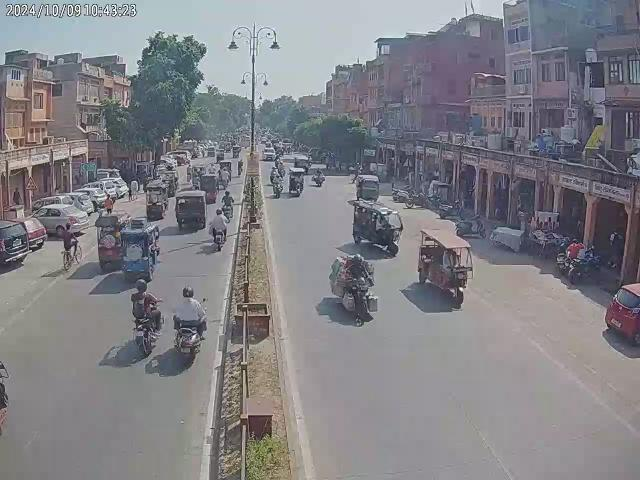auto: (95, 213, 161, 284), (416, 228, 474, 306), (352, 202, 404, 253), (173, 188, 207, 232), (144, 180, 170, 220), (354, 174, 380, 204), (288, 168, 304, 197)
bicycle: (60, 240, 83, 271)
car: (30, 203, 90, 236)
helmet: (134, 278, 148, 292), (182, 286, 194, 298)
motorbike: (567, 256, 603, 283), (404, 192, 430, 208)
motorbike-rider: (328, 253, 377, 322), (128, 278, 166, 354), (210, 210, 228, 250), (220, 188, 233, 212)
person: (59, 222, 76, 263)
scooty: (454, 213, 488, 239)
scooty-rider: (168, 286, 208, 362)
